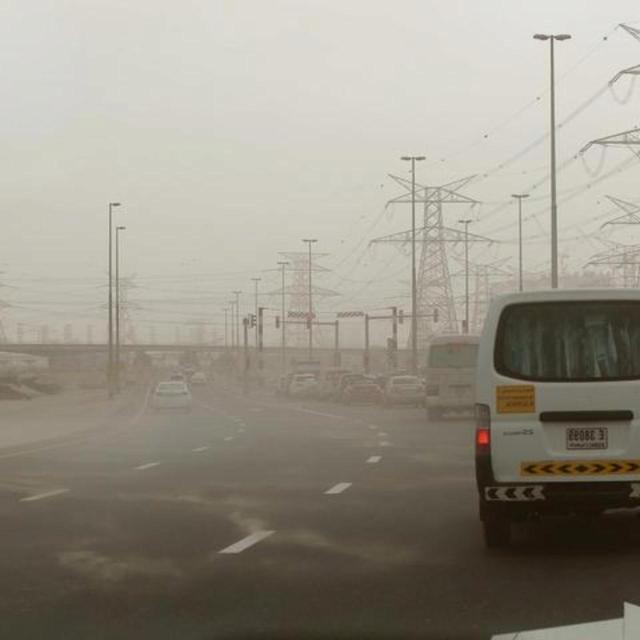Car: (151, 364, 199, 413), (388, 374, 423, 408), (187, 359, 219, 394), (349, 374, 379, 408), (339, 370, 364, 399), (290, 373, 316, 399), (164, 358, 187, 382)
Van: (470, 291, 640, 544), (421, 321, 482, 422), (322, 362, 349, 401)
